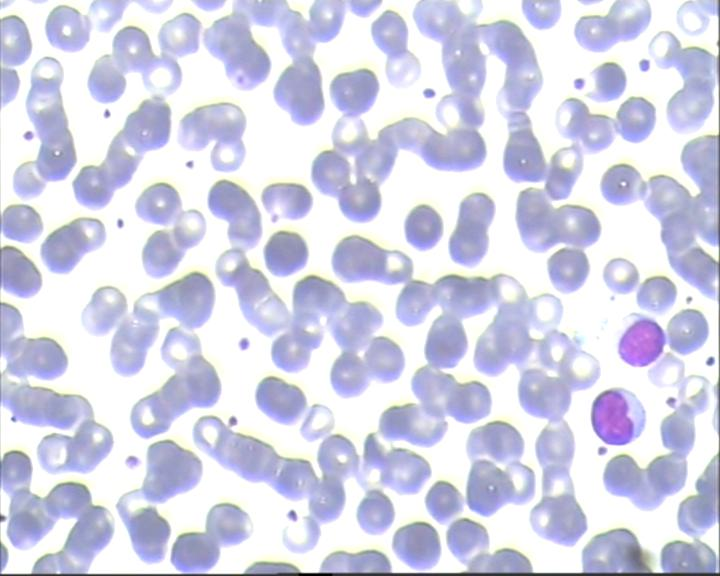lymp: (589, 382, 648, 449), (607, 310, 667, 368)
